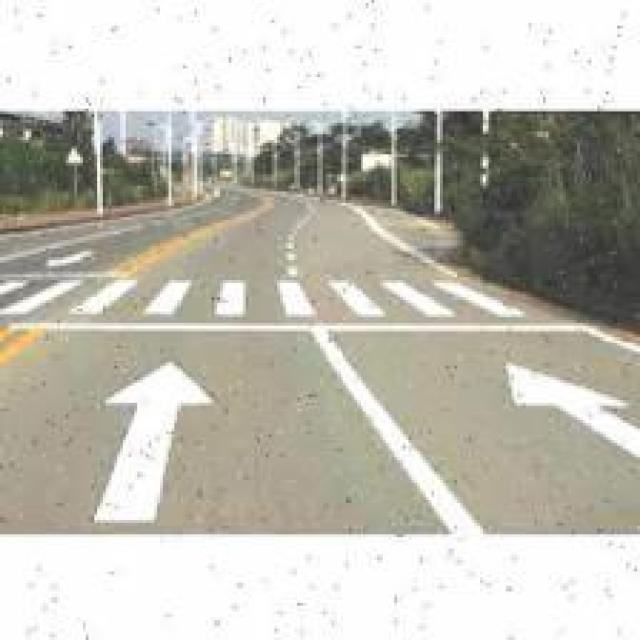crosswalk: (4, 266, 548, 328)
